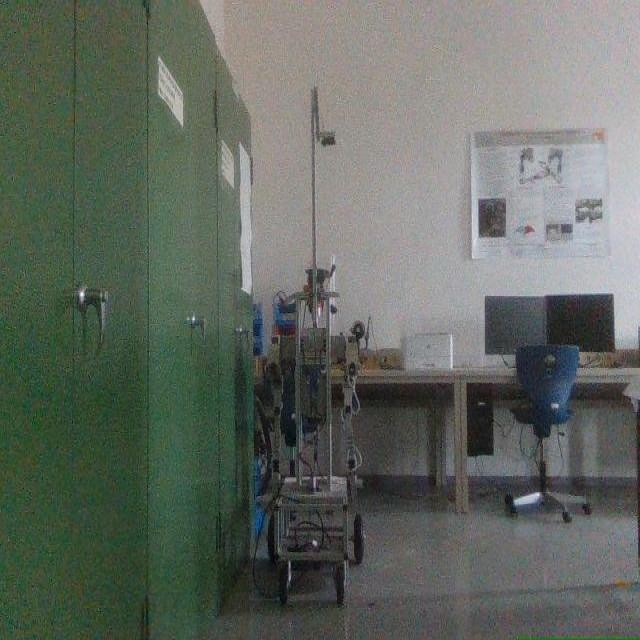objects: (505, 346, 590, 522)
